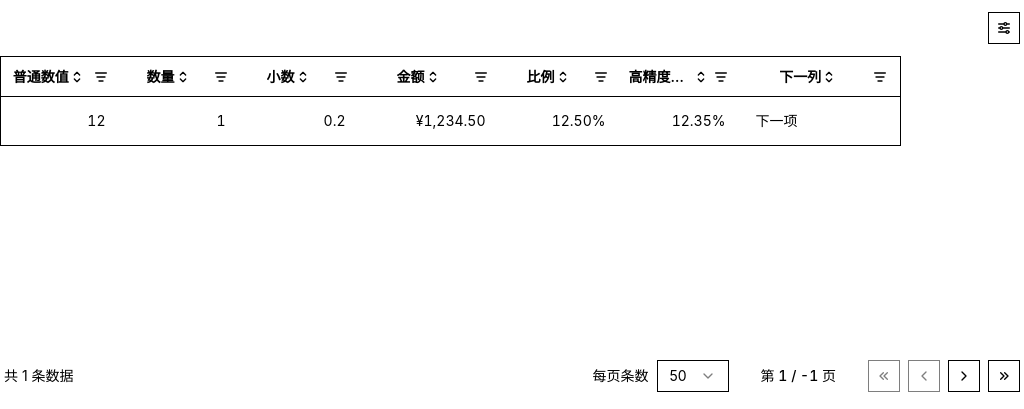
Test case: DataTableEditableNumberCell › rejects a non-zero int fraction instead of rounding it
The image size is (1024, 409).
Double-click the cell "1" at (221, 120), box x1=120 y1=97 x2=240 y2=145
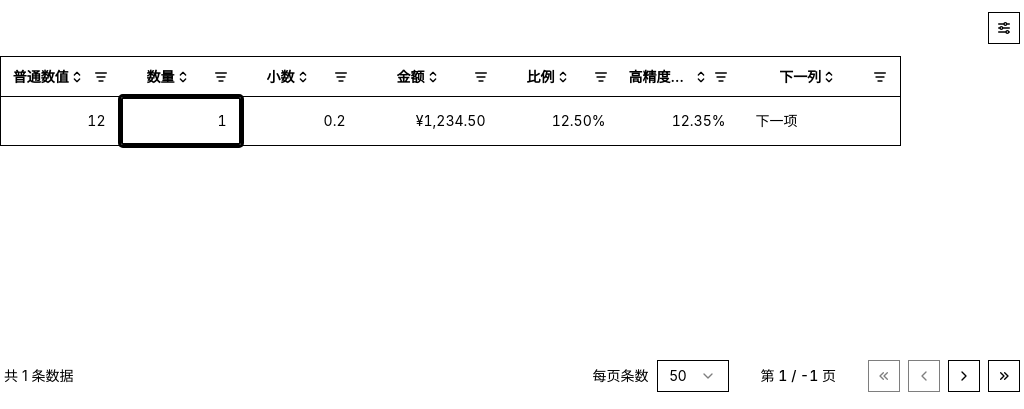
Replace the text in the field named "编辑数量" with "2.20". click: (180, 121)
box: x1=122 y1=99 x2=238 y2=142
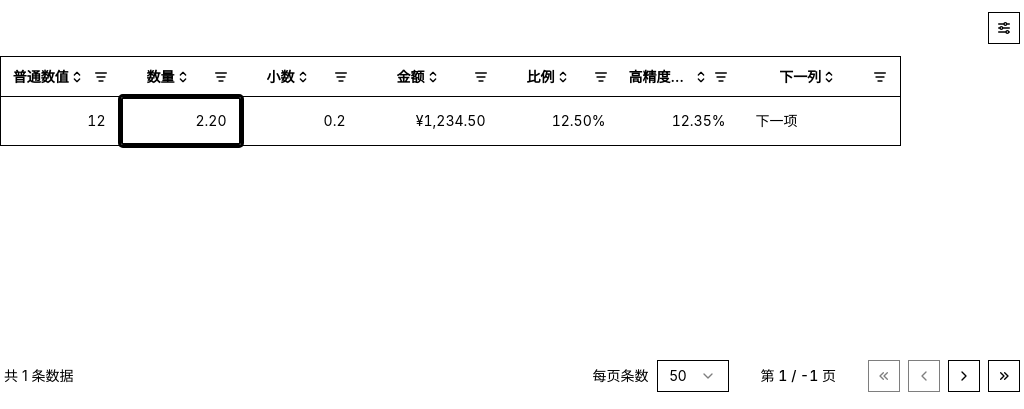
Press Enter
Replace the text in the field named "编辑数量" with "2.00". click: (180, 121)
box: x1=122 y1=99 x2=238 y2=142
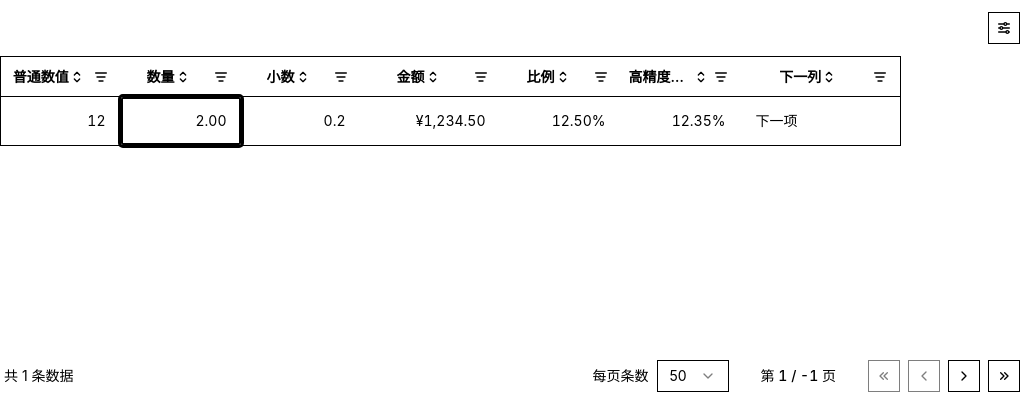
Press Enter
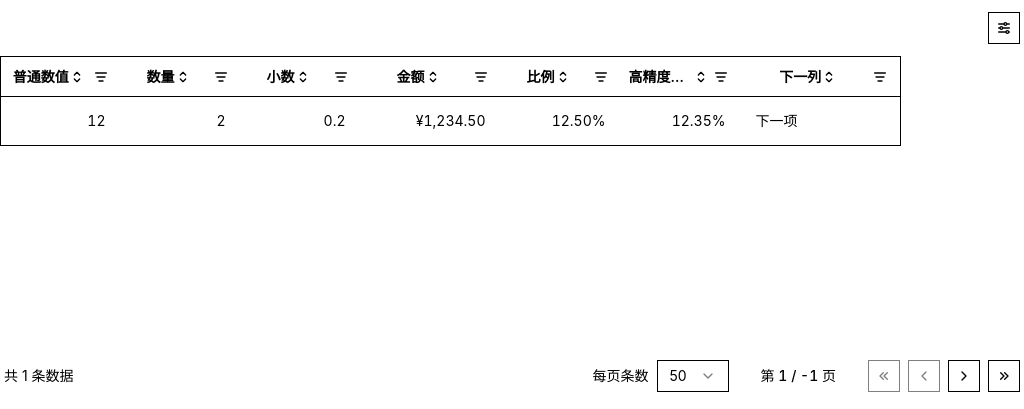
Result: the cell "2" is shown at x1=120 y1=97 x2=240 y2=145
